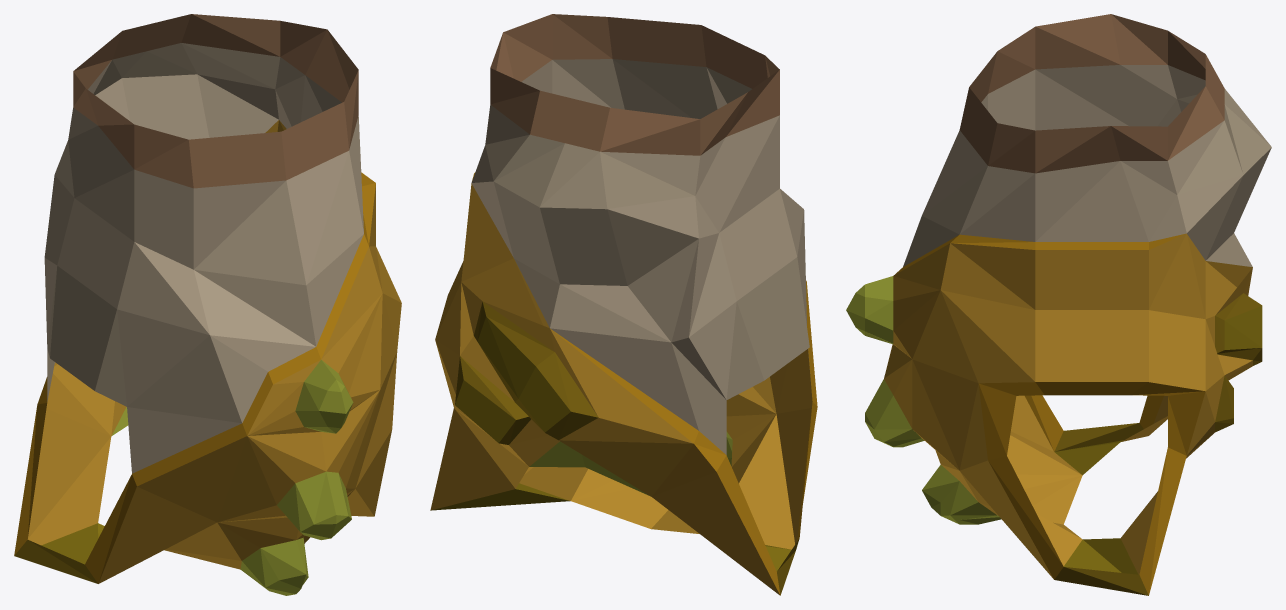
3 renders of one model, left to right at view 1: azimuth 30°, elevation 25°; view 2: azimuth 150°, elevation 25°; view 3: azimuth 270°, elevation 25°, orthographic. The views are drawn at different scales.
Bounding box in the file's own units: 0.3125 × 0.4141 × 0.3516.
